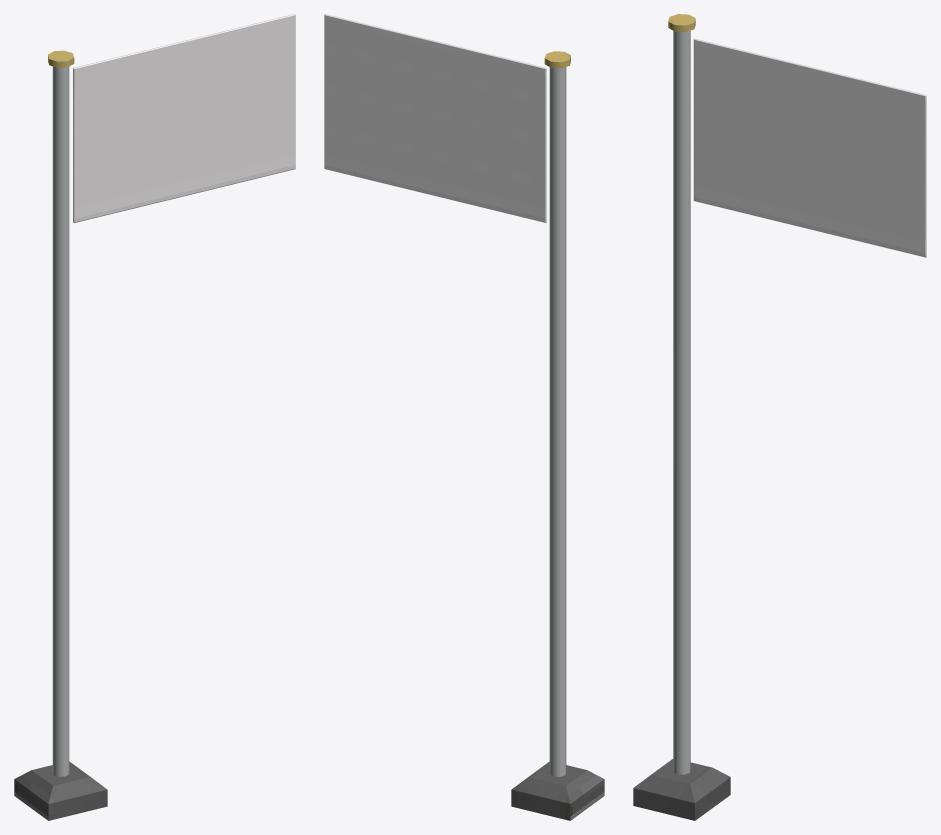
File: objects_un_base_flag01.gltf
3 renders of one model, left to right at view 1: azimuth 30°, elevation 25°; view 2: azimuth 150°, elevation 25°; view 3: azimuth 330°, elevation 25°, orthographic. The views are drawn at different scales.
Visible parts, largest first — view 1: objects_un_base_flag01_01_mesh_shape:objects_un_base_flag01_; view 2: objects_un_base_flag01_01_mesh_shape:objects_un_base_flag01_; view 3: objects_un_base_flag01_01_mesh_shape:objects_un_base_flag01_.
Boxes of the visible parts, left/top/right/bottom form: objects_un_base_flag01_01_mesh_shape:objects_un_base_flag01_: left=14, top=14, right=295, bottom=820; objects_un_base_flag01_01_mesh_shape:objects_un_base_flag01_: left=324, top=14, right=604, bottom=820; objects_un_base_flag01_01_mesh_shape:objects_un_base_flag01_: left=633, top=14, right=926, bottom=820.
Size of the model in its own units: 1.78 by 4.82 by 0.4.
1 material, 1 textured.
